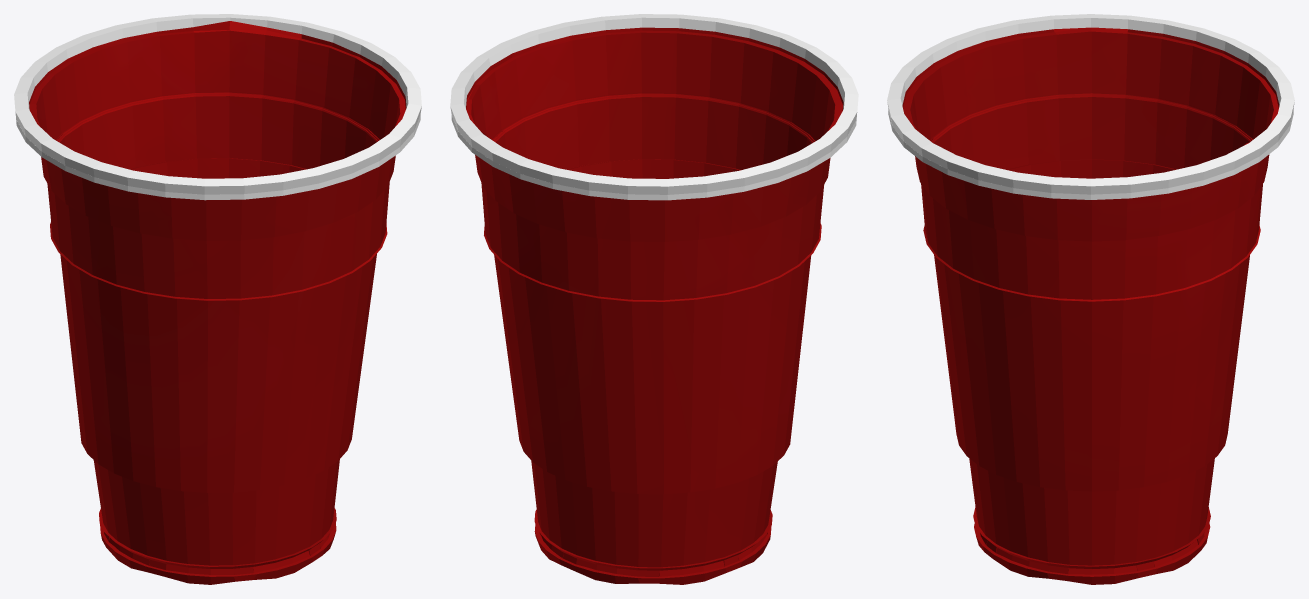
The model's file is beerCupNoSubDiv.fbx.
3 renders of one model, left to right at view 1: azimuth 30°, elevation 25°; view 2: azimuth 150°, elevation 25°; view 3: azimuth 270°, elevation 25°, orthographic.
Visible parts, largest first — view 1: BeerCup; view 2: BeerCup; view 3: BeerCup.
Part boxes in pixels (bbox=[...]): BeerCup: bbox=[14, 14, 421, 584]; BeerCup: bbox=[450, 14, 858, 584]; BeerCup: bbox=[887, 14, 1294, 584].
Size of the model in its own units: 40.25 by 47.66 by 40.25.
